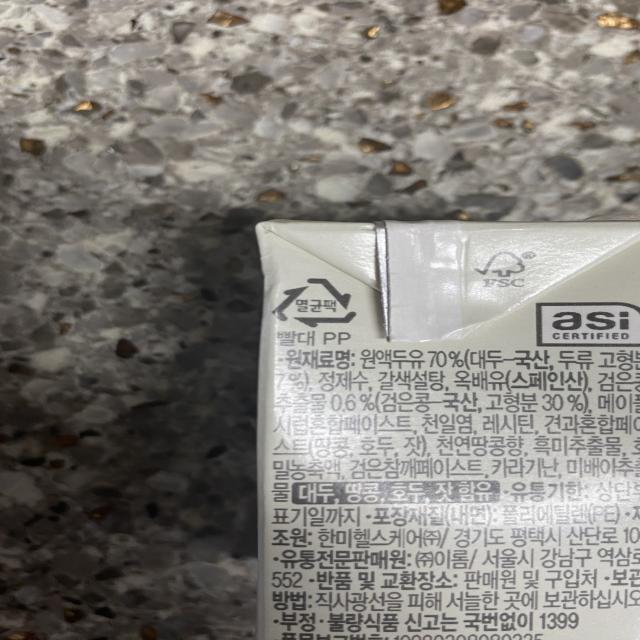SterilizedPack: (268, 277, 359, 328)
